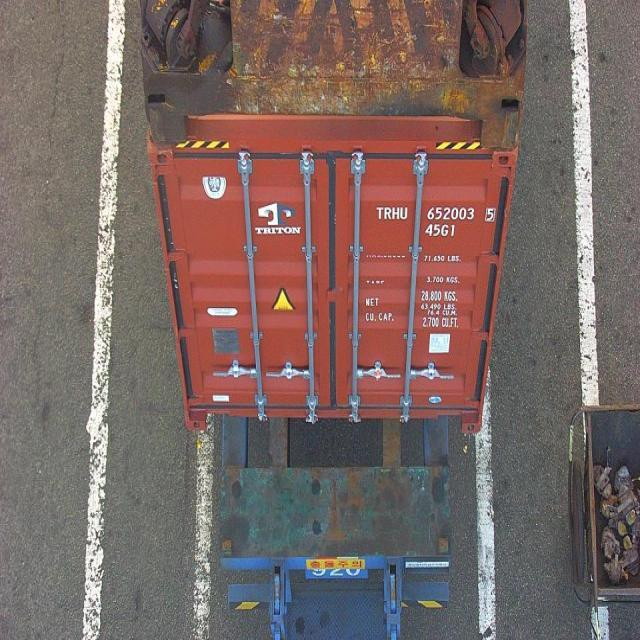ISO: (424, 224, 456, 240)
container_number: (374, 202, 493, 222)
